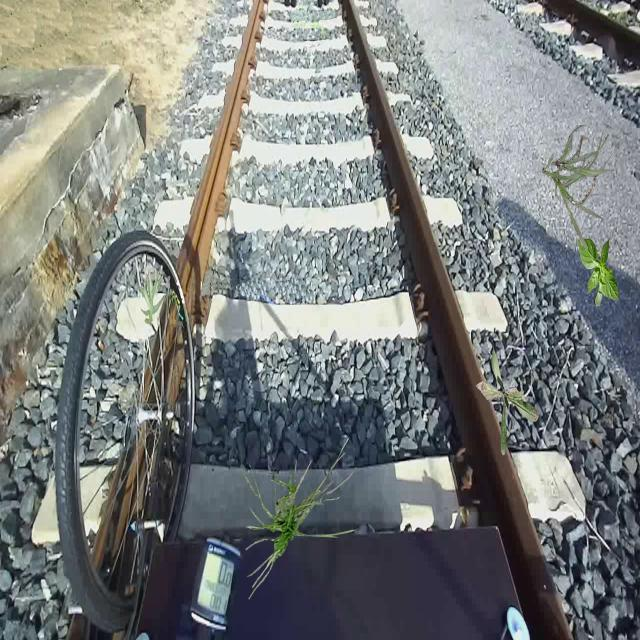Plant: (238, 436, 356, 600), (543, 125, 616, 250), (476, 344, 540, 456), (578, 236, 620, 307), (139, 268, 166, 324)
